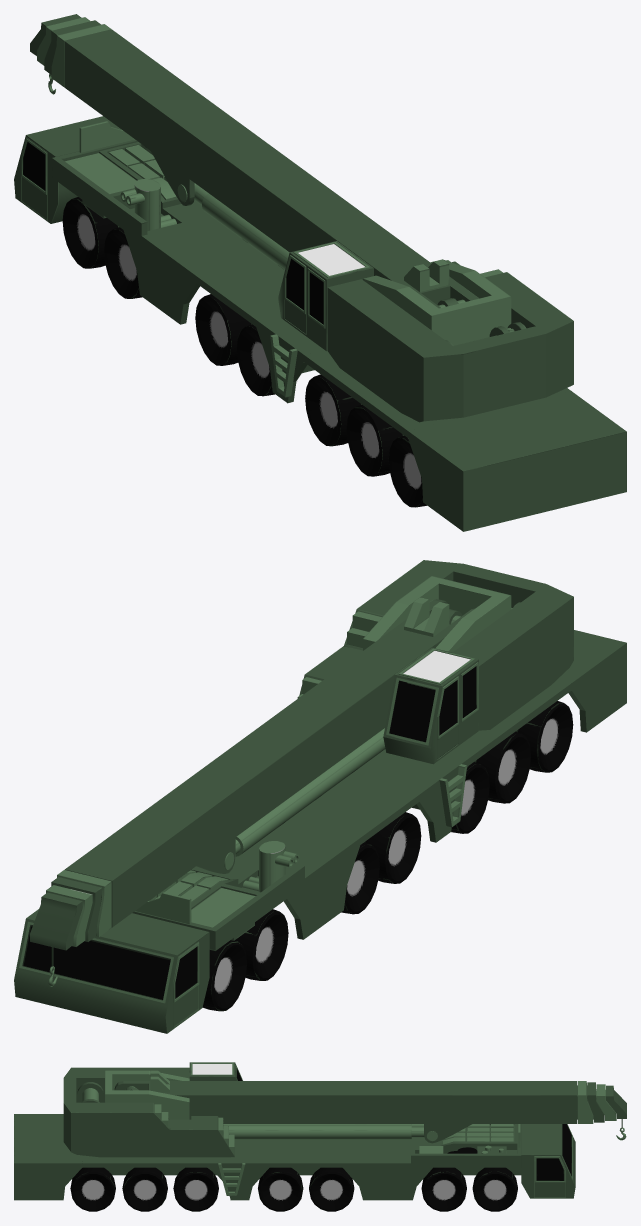
File: engineer.glb
The picture shows the model from 3 angles, top to bottom: view 1: azimuth 30°, elevation 25°; view 2: azimuth 150°, elevation 25°; view 3: azimuth 270°, elevation 25°; orthographic projection. The views are drawn at different scales.
Parts seen in each view (by area): view 1: crane; view 2: crane; view 3: crane.
Part boxes in pixels (x1,y1,x2,y2): crane: [14, 14, 626, 531]; crane: [14, 560, 626, 1033]; crane: [14, 1062, 626, 1211].
Size of the model in its own units: 4.51 by 4.6 by 22.29.
Materials: 1 (1 with a texture image).
